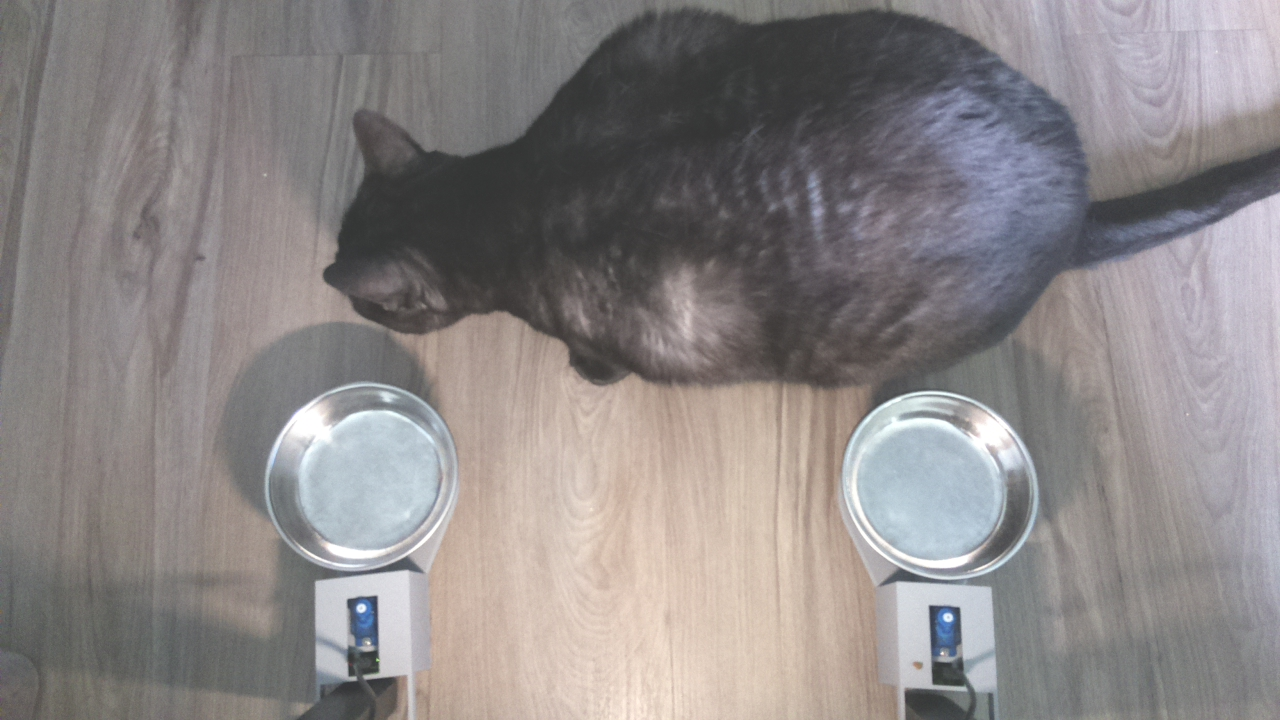open_bowl: (833, 386, 1042, 586), (256, 379, 466, 577)
saki: (312, 89, 551, 347)
